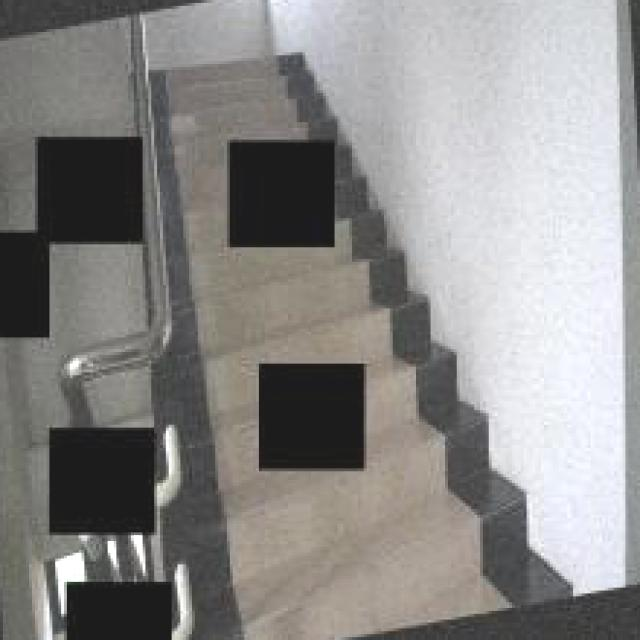upstair: (184, 251, 397, 359)
